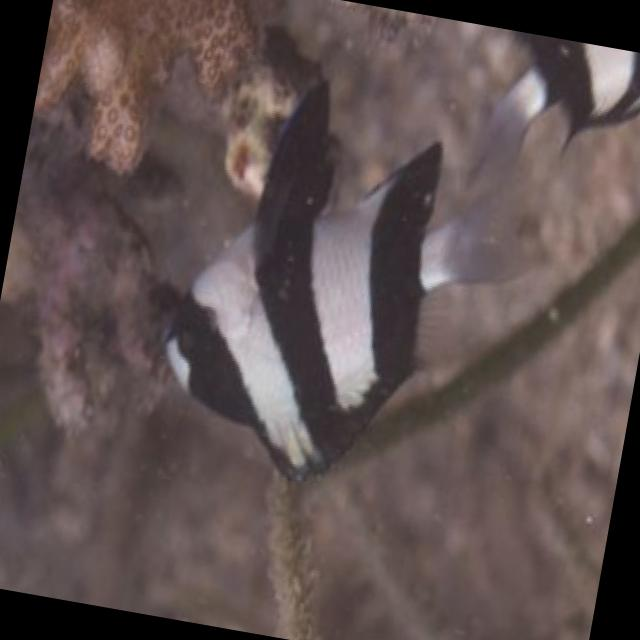ThreeStripedDamselfish: (135, 70, 564, 524)
